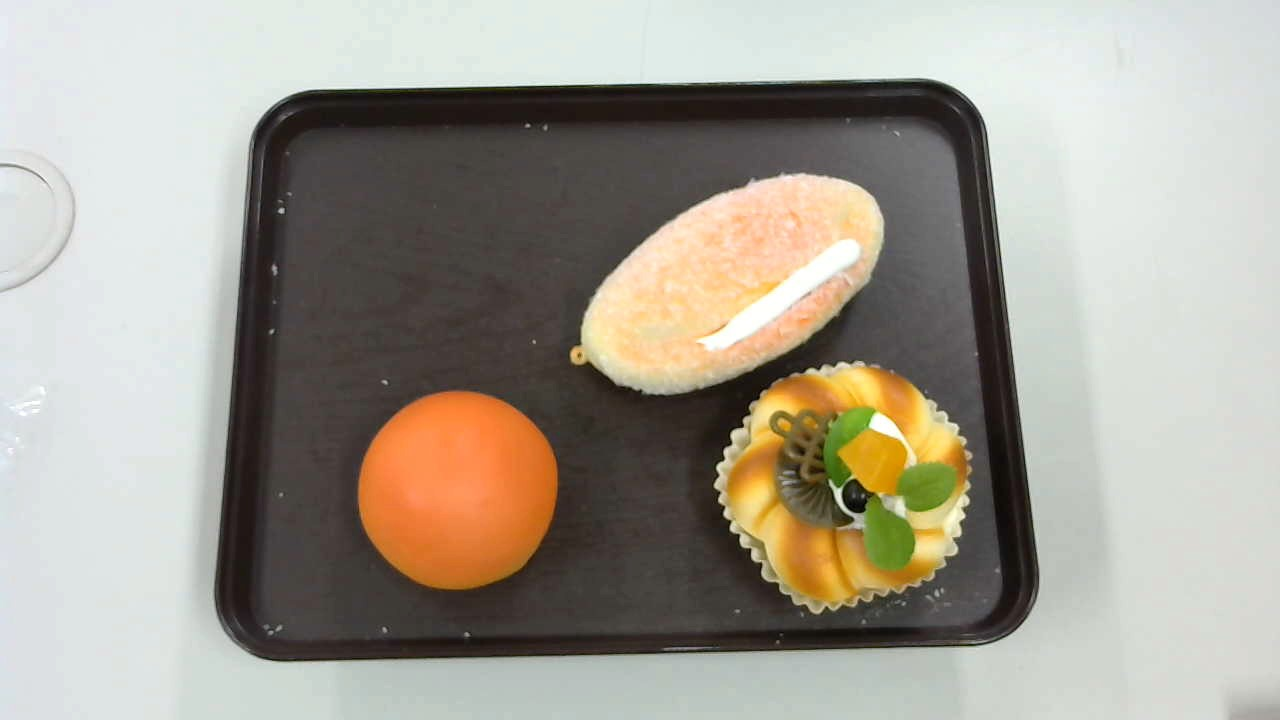bun: (357, 389, 558, 589)
coconut: (570, 173, 886, 395)
fruit tart: (713, 358, 971, 616)
